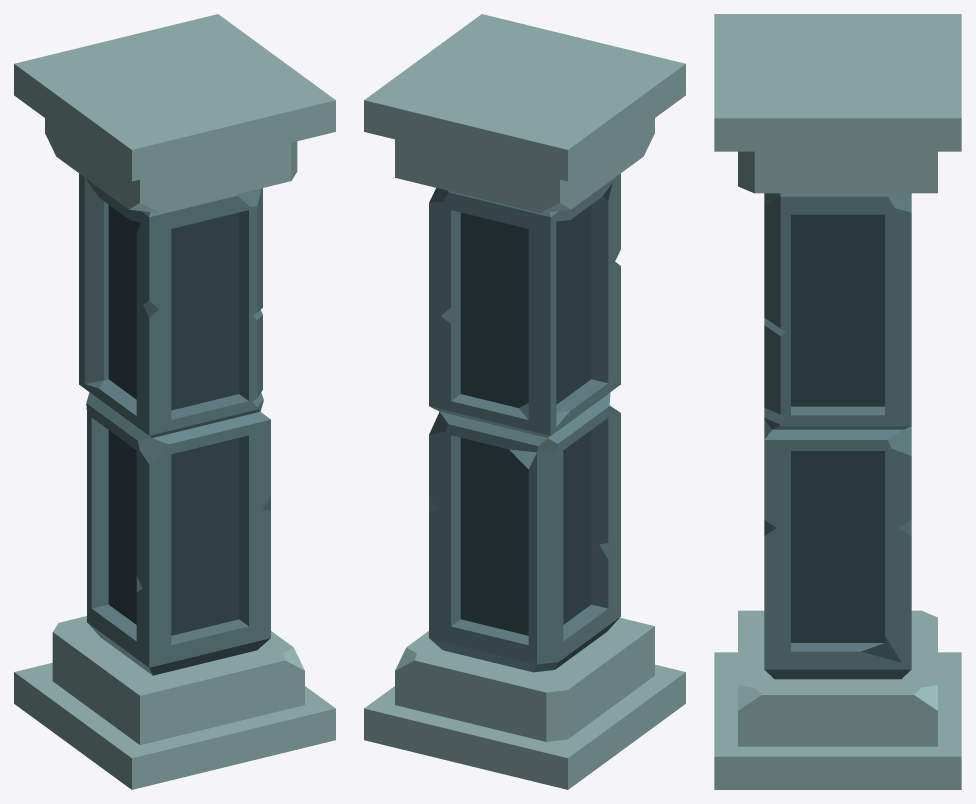
Rendered from Pillar 3.fbx.
3 renders of one model, left to right at view 1: azimuth 30°, elevation 25°; view 2: azimuth 150°, elevation 25°; view 3: azimuth 270°, elevation 25°, orthographic. The views are drawn at different scales.
Visible parts, largest first — view 1: Pillar 3; view 2: Pillar 3; view 3: Pillar 3.
Boxes of the visible parts, box(x1,y1,x2,y2) form: Pillar 3: box(14, 14, 335, 789); Pillar 3: box(364, 14, 685, 789); Pillar 3: box(714, 14, 961, 789).
Bounding box in the file's own units: 100 × 300 × 100.
Materials: 1 (1 with a texture image).
